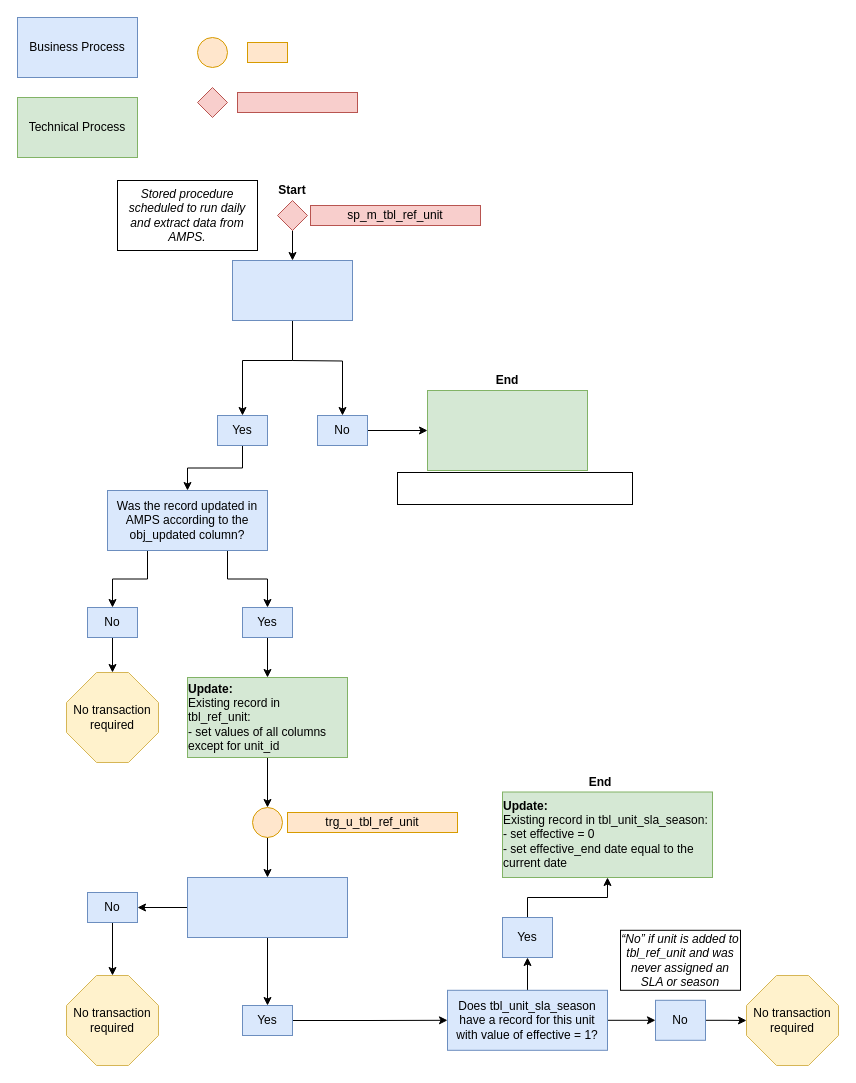
The diagram is 856 pixels wide and 1083 high, and some of its shapes have lost their labels. Here are the shapes that lost their labels. From the top down, the centre of each, then its label:
At (267,52): "Trigger".
At (297,102): "Stored Procedure".
At (292,290): "Does unit exist in tbl_ref_unit?".
At (507,430): "Insert: New record into tbl_ref_unit with values for all columns".
At (514,488): "A record is also added to vw_unit_sla_season_unassigned".
At (267,907): "Was the record decommissioned in AMPS (obj_status = D)?".
